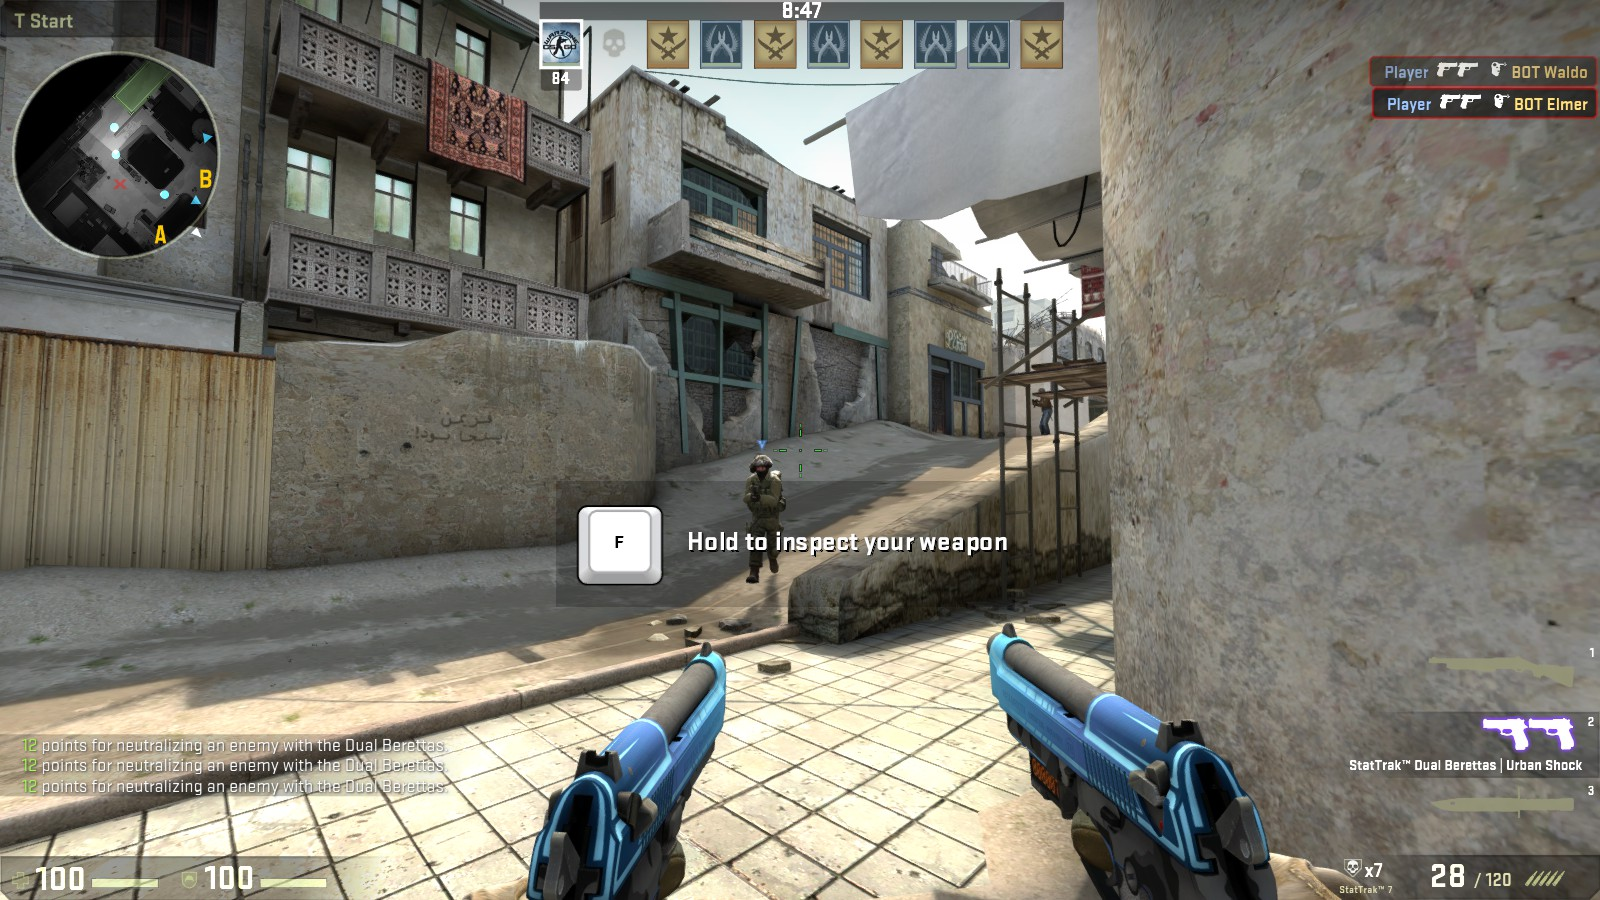c: (738, 455, 785, 585)
ch: (749, 455, 774, 480)
